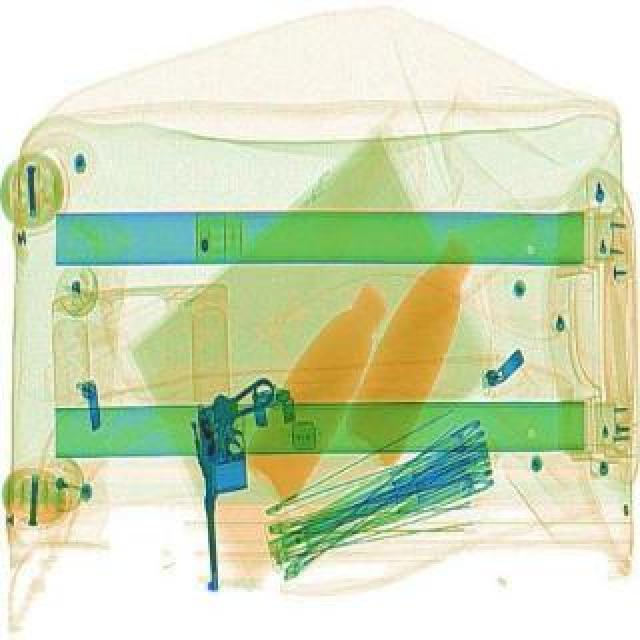gun: (186, 374, 290, 590)
